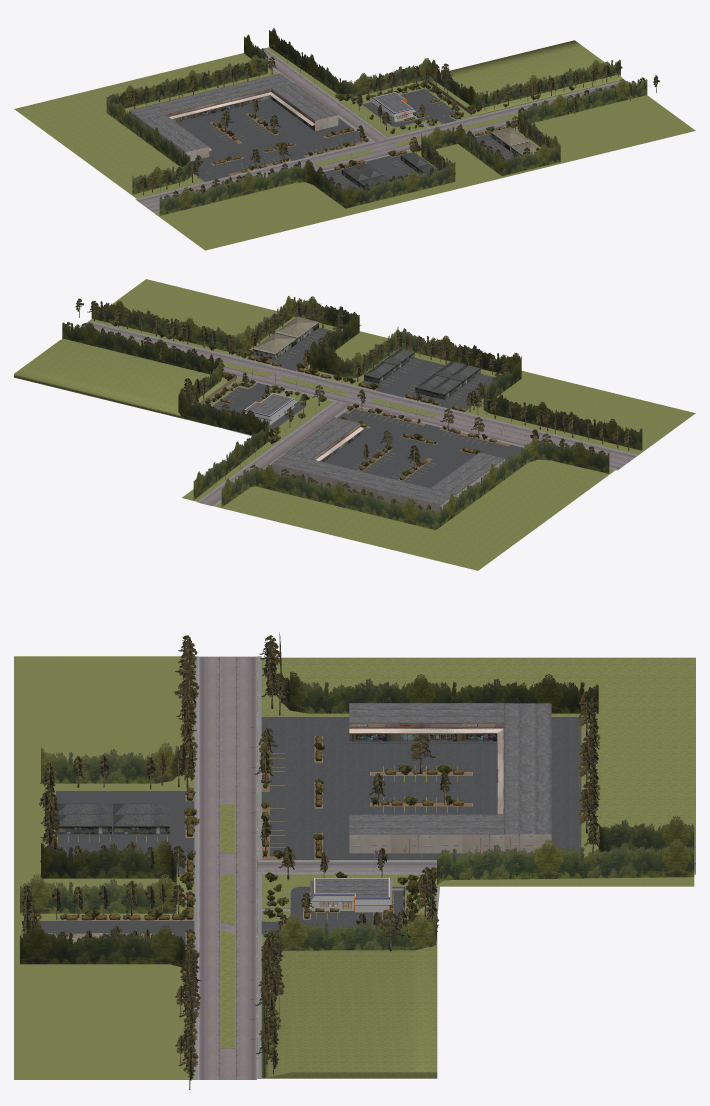
Rendered from burgerpiz.glb.
3 views of the same model, one above another, from view 1: azimuth 30°, elevation 25°; view 2: azimuth 150°, elevation 25°; view 3: azimuth 270°, elevation 25° (orthographic). The views are drawn at different scales.
Parts seen in each view (by area): view 1: sidewalk.001, Background, Grass, garden, Building, Building.001, Building.002, Building.003, AsphaltDamaged, BurgerPiz, Building_01, sidewalk.018; view 2: sidewalk.001, Background, Grass, Building.002, garden, Building.001, Building, Building.003, AsphaltDamaged, BurgerPiz, Building_01, Building_01.001; view 3: sidewalk.001, Background, Grass, Building, Building.003, garden, Building.001, Building.002, AsphaltDamaged, BurgerPiz, Building_02.002, Building_02.003.
Boxes of the visible parts, left/top/right/bottom form: sidewalk.001: left=14, top=48, right=695, bottom=250; Background: left=106, top=28, right=647, bottom=215; Grass: left=427, top=40, right=622, bottom=116; garden: left=266, top=47, right=473, bottom=137; Building: left=270, top=83, right=338, bottom=130; Building.001: left=205, top=73, right=293, bottom=111; Building.002: left=129, top=92, right=219, bottom=123; Building.003: left=142, top=115, right=211, bottom=161; AsphaltDamaged: left=362, top=89, right=456, bottom=127; BurgerPiz: left=373, top=92, right=413, bottom=121; Building_01: left=490, top=127, right=529, bottom=150; sidewalk.018: left=176, top=99, right=339, bottom=162; sidewalk.001: left=82, top=279, right=695, bottom=570; Background: left=62, top=296, right=642, bottom=530; Grass: left=14, top=339, right=237, bottom=418; Building.002: left=355, top=473, right=455, bottom=513; garden: left=182, top=378, right=333, bottom=501; Building.001: left=271, top=453, right=370, bottom=493; Building: left=285, top=417, right=363, bottom=461; Building.003: left=431, top=452, right=505, bottom=498; AsphaltDamaged: left=212, top=382, right=306, bottom=430; BurgerPiz: left=244, top=393, right=293, bottom=424; Building_01: left=252, top=333, right=296, bottom=359; Building_01.001: left=275, top=317, right=318, bottom=343; sidewalk.001: left=14, top=656, right=695, bottom=1079; Background: left=20, top=632, right=694, bottom=1051; Grass: left=261, top=945, right=437, bottom=1078; Building: left=349, top=814, right=504, bottom=853; Building.003: left=349, top=703, right=503, bottom=741; garden: left=261, top=874, right=694, bottom=948; Building.001: left=497, top=769, right=551, bottom=852; Building.002: left=497, top=703, right=551, bottom=776; AsphaltDamaged: left=261, top=886, right=405, bottom=933; BurgerPiz: left=314, top=878, right=389, bottom=912; Building_02.002: left=113, top=814, right=169, bottom=834; Building_02.003: left=55, top=814, right=111, bottom=834.
Size of the model in its own units: 407 by 26.9 by 270.
73 materials, 65 textured.
